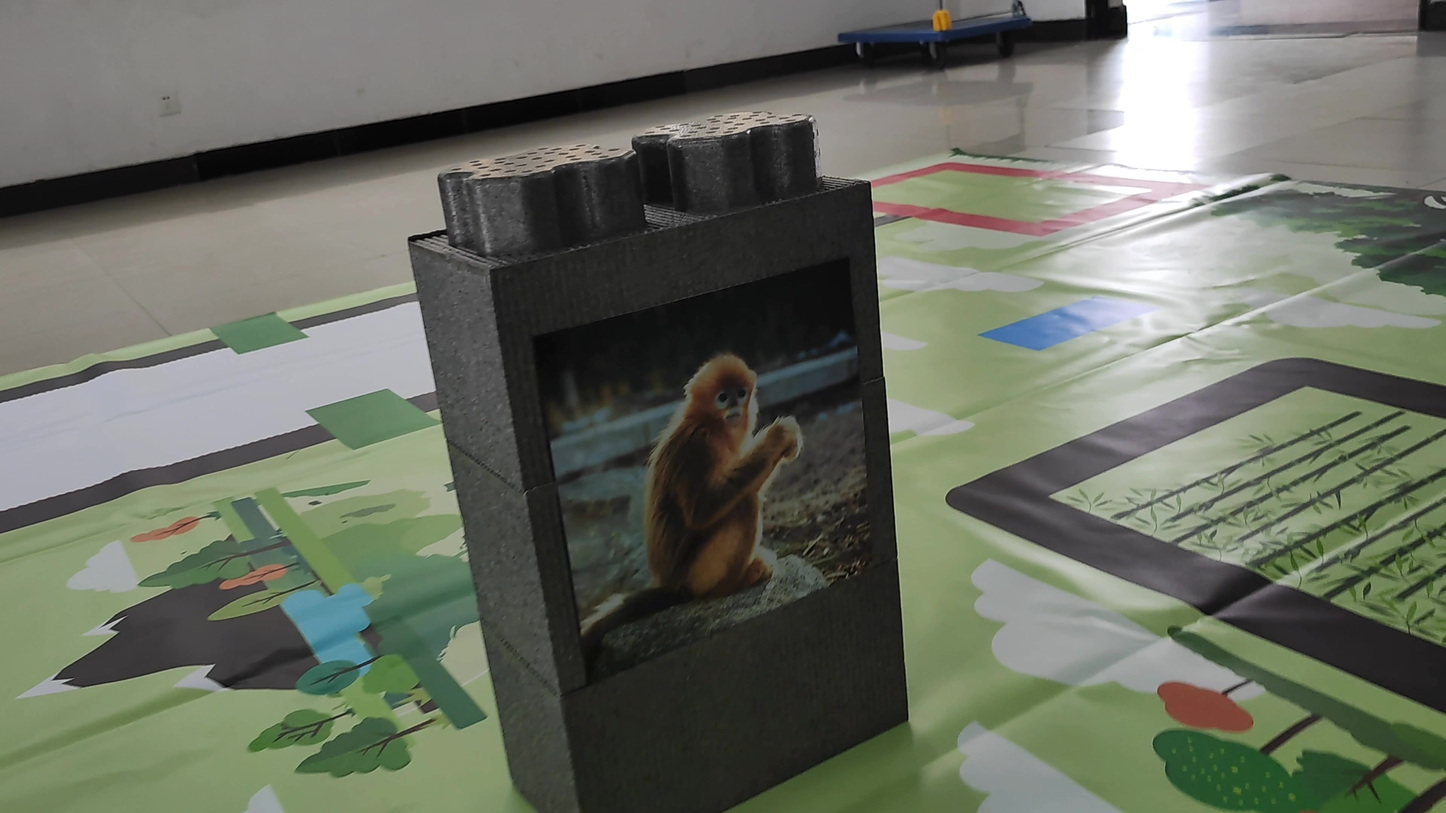monkey: (585, 333, 852, 615)
